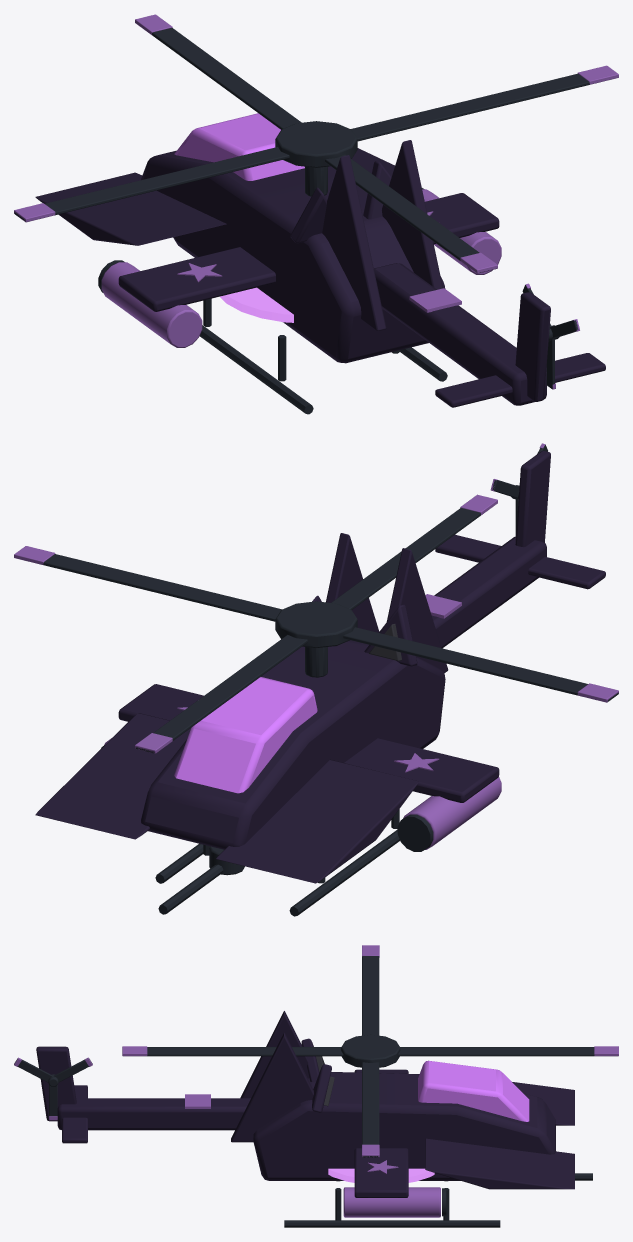
File: katzen_kreischer.glb
3 renders of one model, top to bottom at view 1: azimuth 30°, elevation 25°; view 2: azimuth 150°, elevation 25°; view 3: azimuth 270°, elevation 25°, orthographic. The views are drawn at different scales.
Parts seen in each view (by area): view 1: fuselage, rotor_main, tailboom, cwing_-1, wing_-1, cfin_-1, canopy, cfin_1, pod_-1, rotor_main_hub, fin, stab (+10 smaller); view 2: fuselage, rotor_main, cwing_-1, canopy, cwing_1, tailboom, wing_-1, rotor_main_hub, cfin_-1, fin, stab, pod_-1 (+8 smaller); view 3: fuselage, rotor_main, cwing_1, tailboom, canopy, cfin_1, pod_1, wing_1, skid_1, rotor_main_hub, fin, cwing_-1 (+5 smaller).
Part boxes in pixels (x1,y1,x2,y2): fuselage: (141, 150, 445, 363); rotor_main: (14, 14, 618, 273); tailboom: (374, 263, 546, 405); cwing_-1: (35, 172, 226, 245); wing_-1: (118, 247, 275, 311); cfin_-1: (322, 155, 386, 330); canopy: (174, 113, 304, 180); cfin_1: (382, 140, 442, 289); pod_-1: (101, 262, 202, 347); rotor_main_hub: (275, 121, 357, 167); fin: (515, 292, 550, 401); stab: (435, 353, 605, 407); fuselage: (141, 640, 445, 849); rotor_main: (14, 494, 618, 753); cwing_-1: (216, 759, 418, 883); canopy: (174, 677, 317, 793); cwing_1: (35, 713, 190, 839); tailboom: (432, 536, 546, 648); wing_-1: (344, 738, 499, 802); rotor_main_hub: (275, 601, 357, 647); cfin_-1: (386, 548, 448, 673); fin: (515, 451, 550, 547); stab: (435, 534, 605, 589); pod_-1: (403, 776, 501, 849); fuselage: (253, 1072, 555, 1180); rotor_main: (122, 945, 618, 1157); cwing_1: (425, 1138, 574, 1189); tailboom: (57, 1098, 250, 1130); canopy: (418, 1060, 529, 1121); cfin_1: (231, 1032, 313, 1142); pod_1: (343, 1187, 440, 1217); wing_1: (354, 1148, 408, 1197); skid_1: (284, 1220, 500, 1227); rotor_main_hub: (341, 1034, 400, 1067); fin: (36, 1046, 76, 1121); cwing_-1: (512, 1082, 574, 1125).
Size of the model in its own units: 2.3 by 0.9255 by 2.8.
